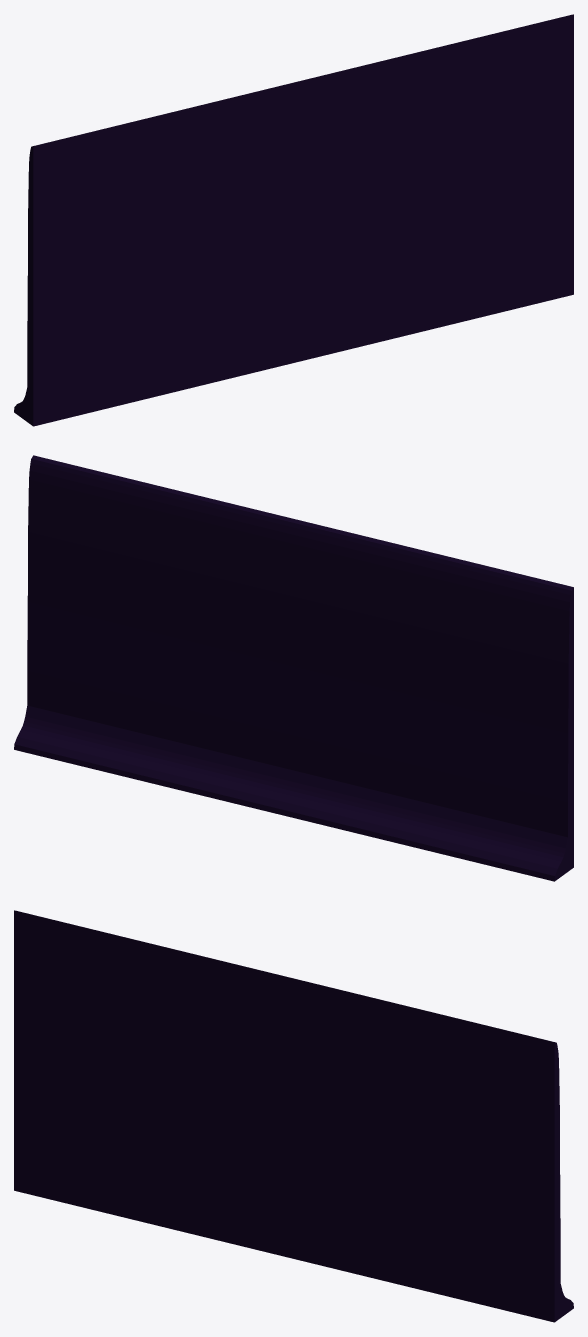
File: FloorboardStraight.fbx
The picture shows the model from 3 angles, top to bottom: view 1: azimuth 30°, elevation 25°; view 2: azimuth 150°, elevation 25°; view 3: azimuth 330°, elevation 25°; orthographic projection.
Parts seen in each view (by area): view 1: StraightFloorboard; view 2: StraightFloorboard; view 3: StraightFloorboard.
Boxes of the visible parts, box(x1,y1,x2,y2) form: StraightFloorboard: box(14, 14, 573, 426); StraightFloorboard: box(14, 455, 573, 881); StraightFloorboard: box(14, 910, 573, 1322).
Bounding box in the file's own units: 4828 × 2392 × 300.
